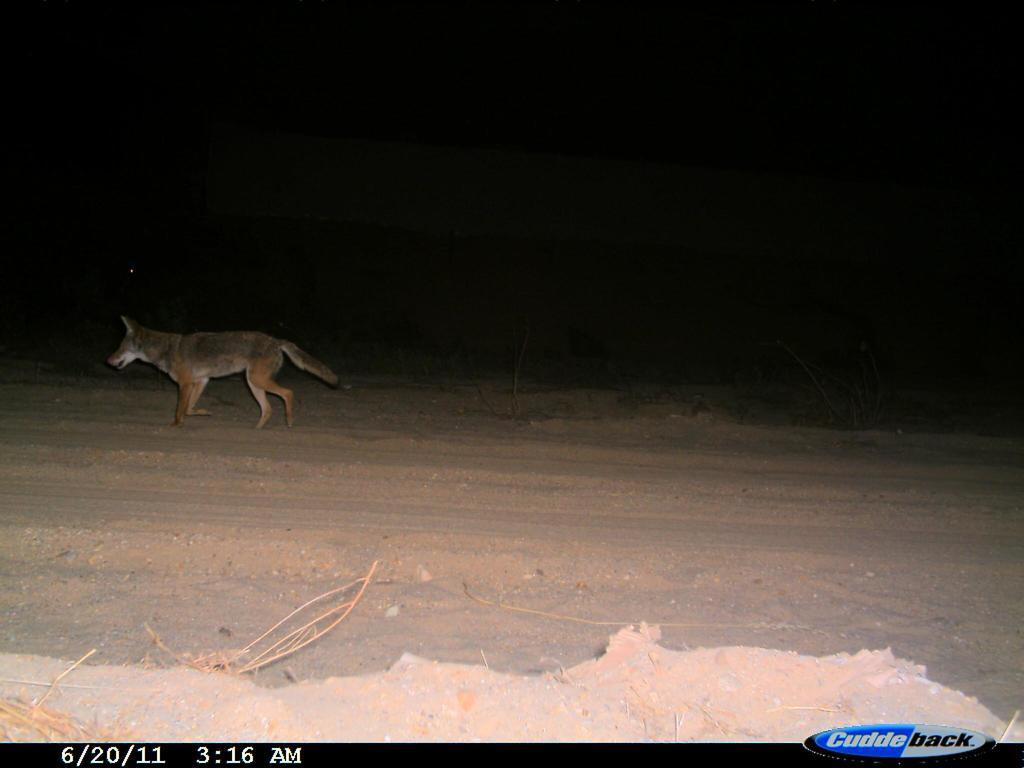coyote: (102, 295, 351, 436)
